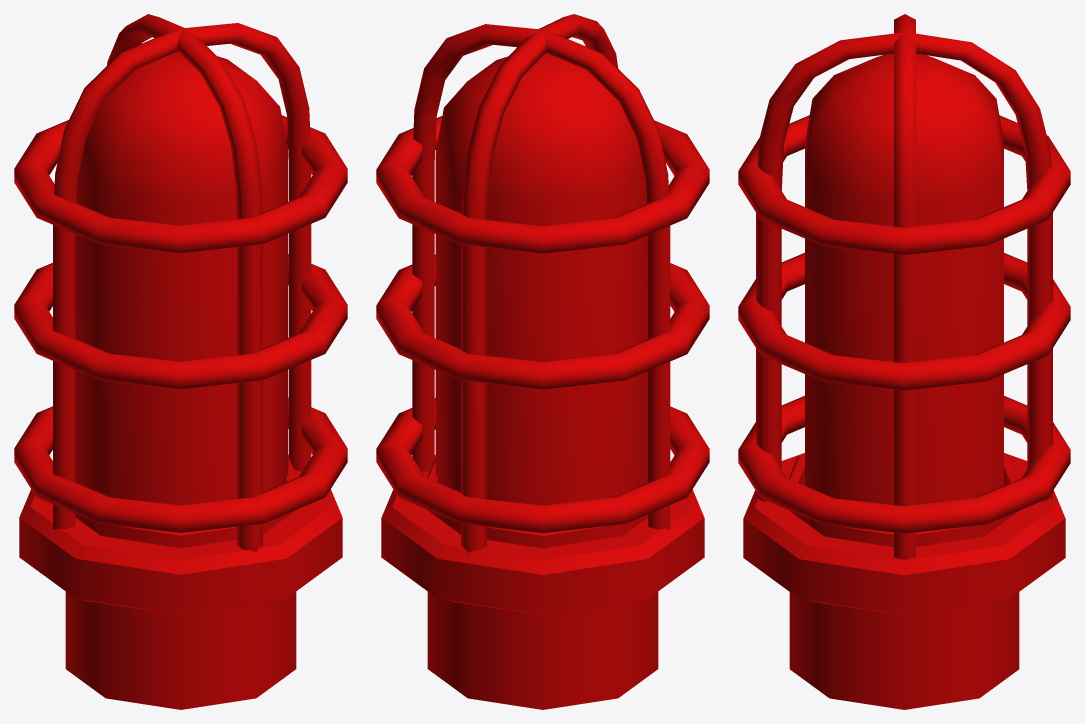
Rendered from Attic_Light_01_LP.glb.
3 views of the same model, side by side, from view 1: azimuth 30°, elevation 25°; view 2: azimuth 150°, elevation 25°; view 3: azimuth 270°, elevation 25° (orthographic).
Visible parts, largest first — view 1: Attic_Light_01_LP; view 2: Attic_Light_01_LP; view 3: Attic_Light_01_LP.
Part boxes in pixels (left/top/right/bottom): Attic_Light_01_LP: left=14, top=14, right=347, bottom=709; Attic_Light_01_LP: left=376, top=14, right=709, bottom=709; Attic_Light_01_LP: left=738, top=14, right=1070, bottom=709.
Bounding box in the file's own units: 0.1559 × 0.3258 × 0.1559.
